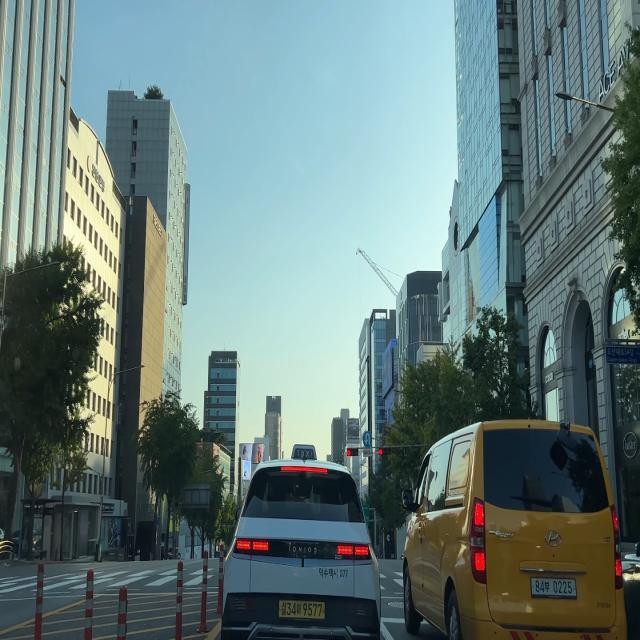Red Light: (378, 447, 383, 456), (346, 448, 351, 456)
